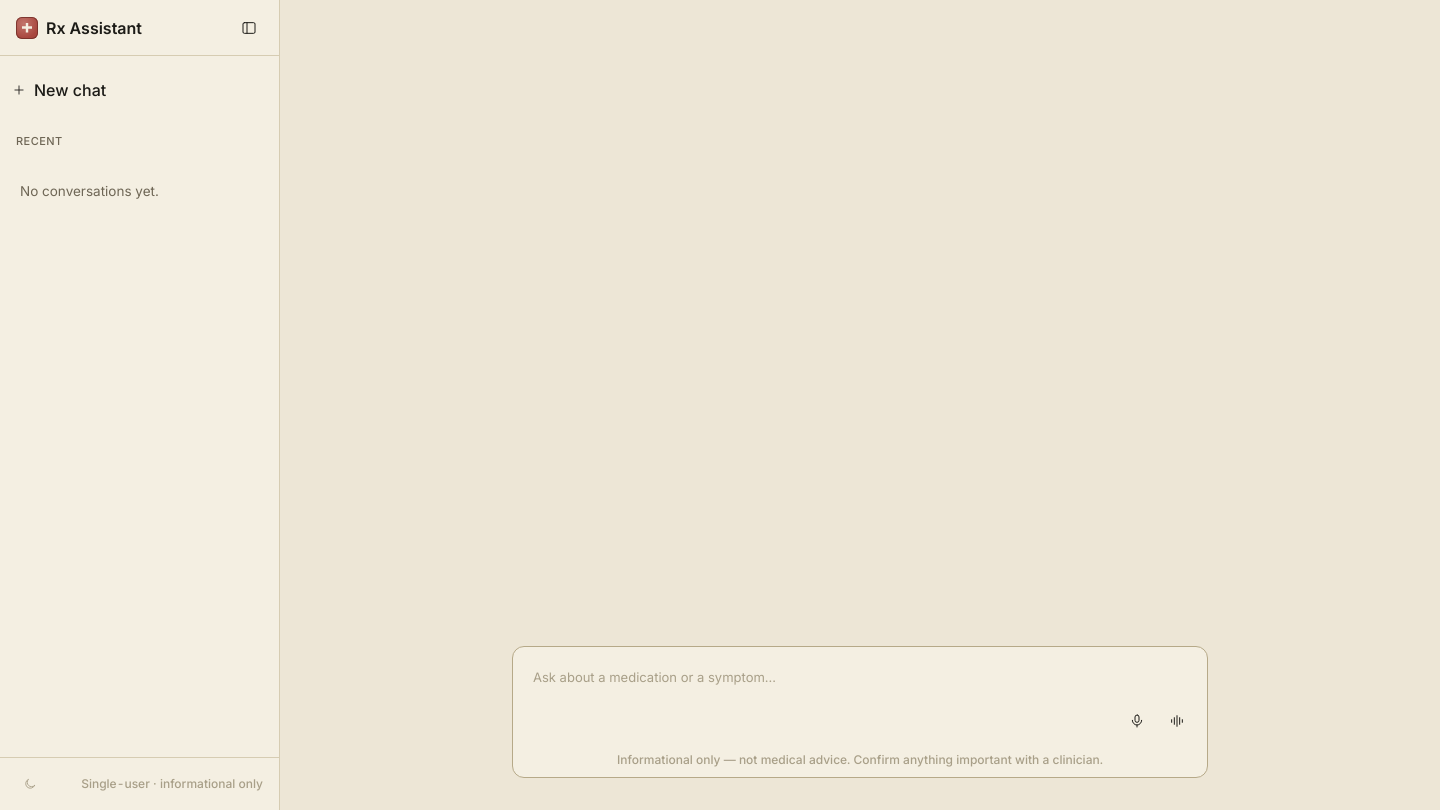
Scenario: live stream — slice 15 integration › capped: last step.reason=capped surfaces <CappedNotice>
Type "foo" into the text box with placeholder "Ask about a medication or a symptom…" at (860, 679), box [525, 659, 1195, 699]
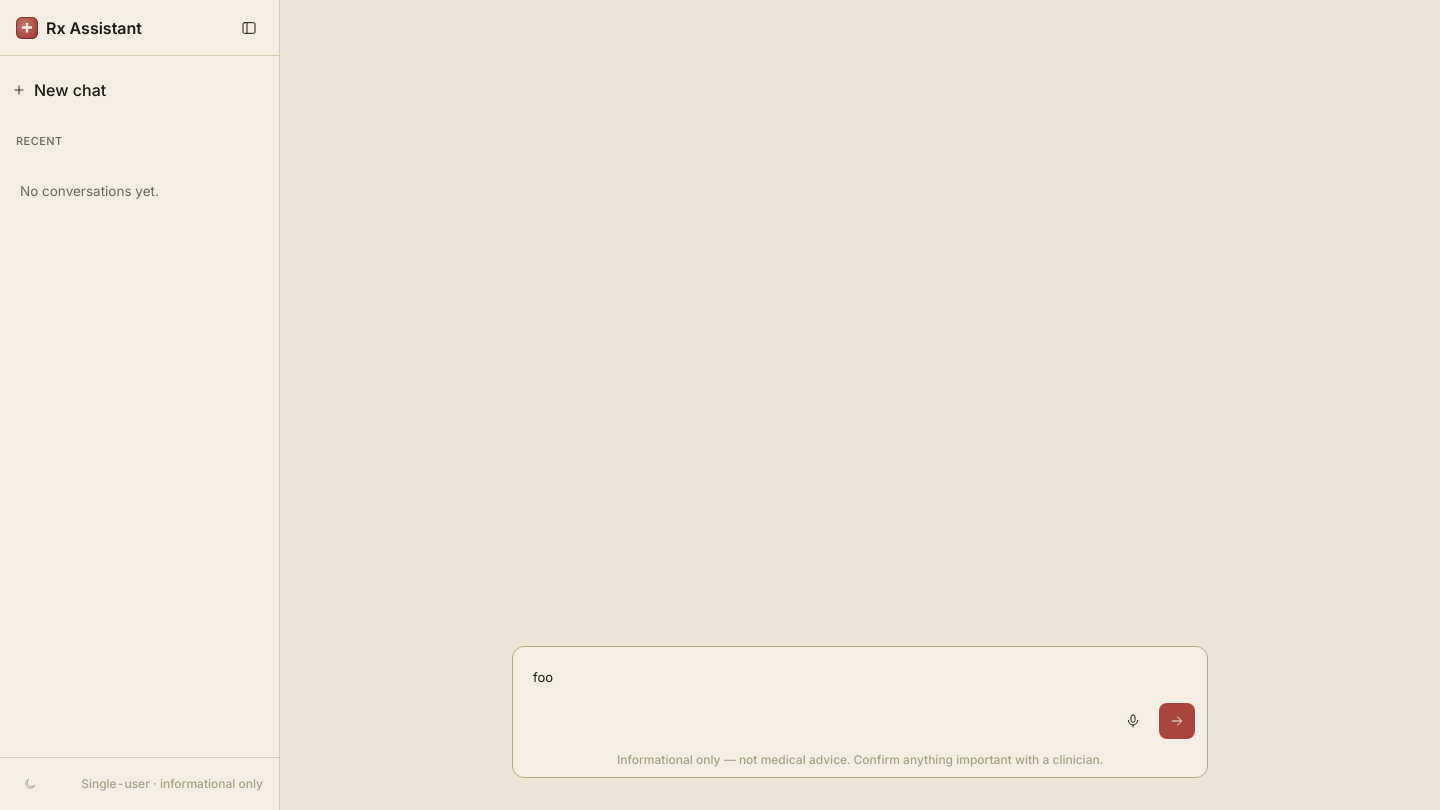
Click the button named "send" at (1177, 721), box [1159, 703, 1195, 739]
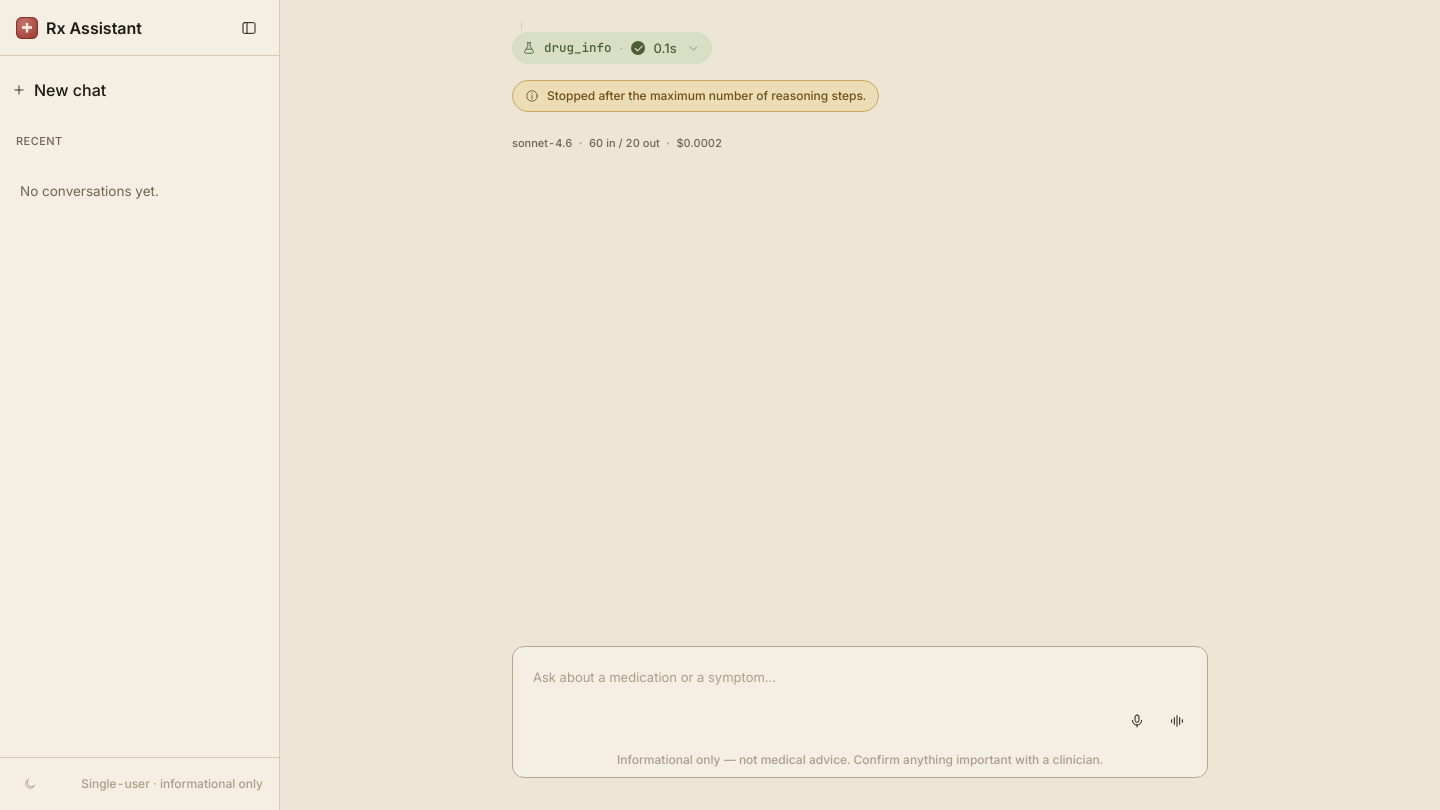
Check: the text "Stopped after the maximum number of reasoning steps." is shown, box [547, 87, 866, 105]
